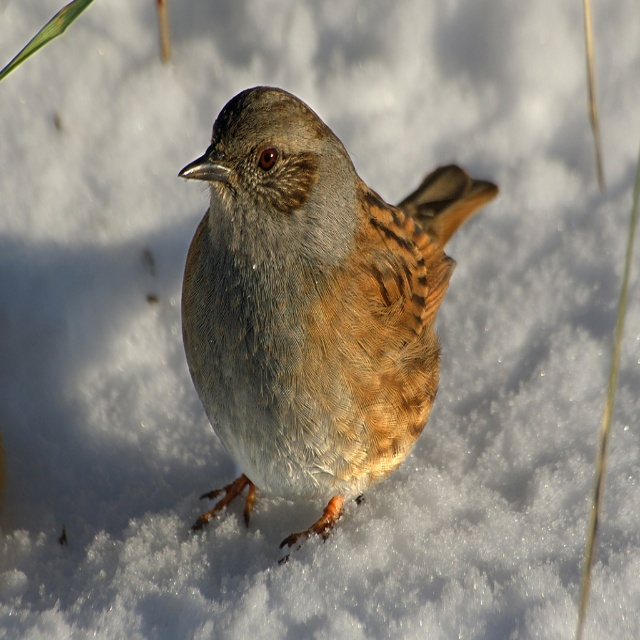Sparrow: (176, 85, 500, 562)
